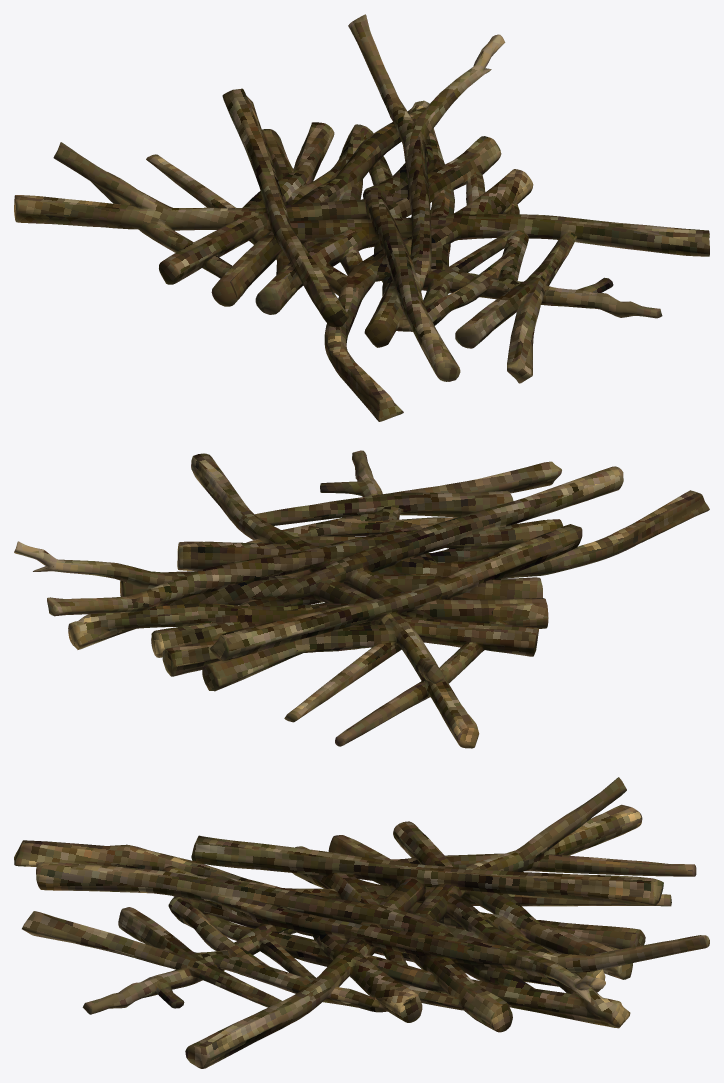
The model's file is branches_psx.glb.
The picture shows the model from 3 angles, top to bottom: view 1: azimuth 30°, elevation 25°; view 2: azimuth 150°, elevation 25°; view 3: azimuth 270°, elevation 25°; orthographic projection.
Parts seen in each view (by area): view 1: galho; view 2: galho; view 3: galho.
Boxes of the visible parts, bbox=[...] form: galho: bbox=[14, 14, 709, 421]; galho: bbox=[14, 450, 709, 748]; galho: bbox=[14, 777, 709, 1068].
Size of the model in its own units: 0.4353 by 0.0727 by 0.5255.
Materials: 1 (1 with a texture image).
